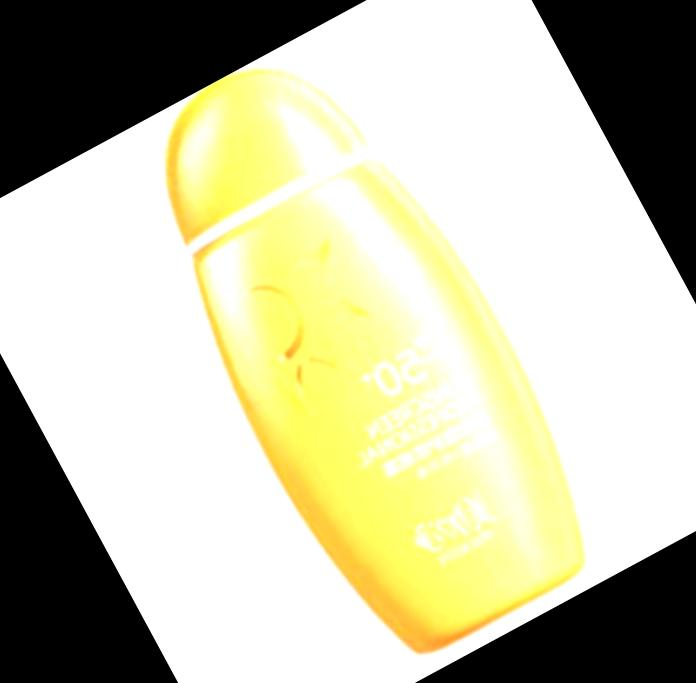cosmetic: (99, 15, 628, 681)
